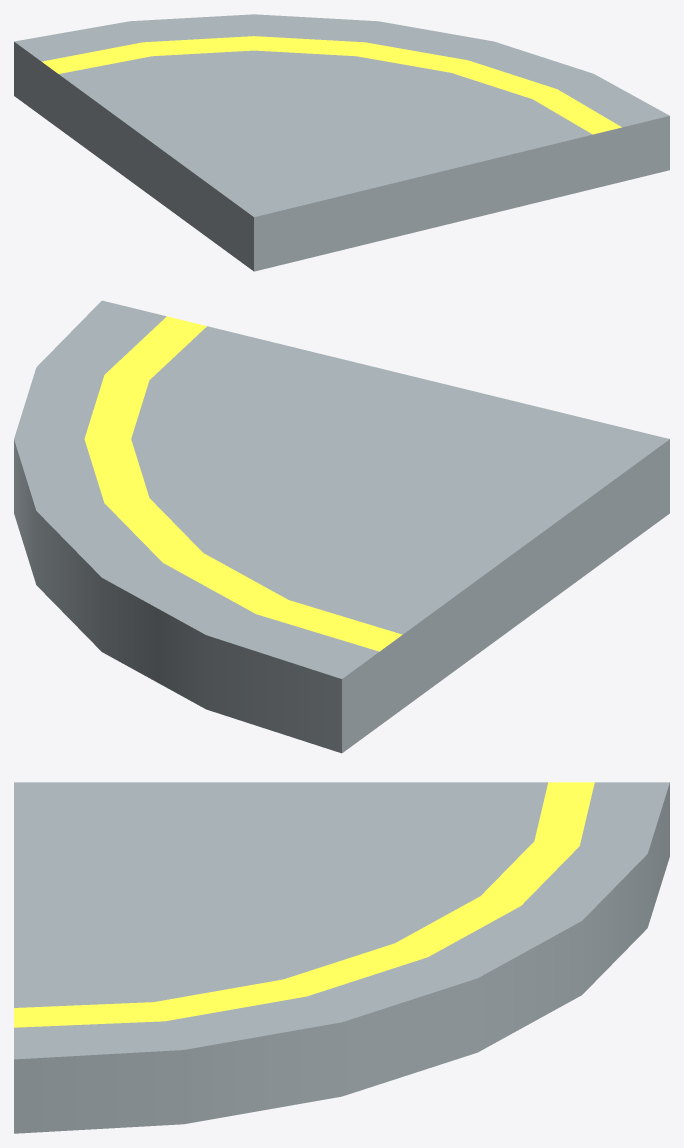
Rendered from SM_Platform90DegreeCorner_v0.fbx.
3 views of the same model, one above another, from view 1: azimuth 30°, elevation 25°; view 2: azimuth 150°, elevation 25°; view 3: azimuth 270°, elevation 25° (orthographic). The views are drawn at different scales.
Visible parts, largest first — view 1: SM_Platform90DegreeCorner_v0; view 2: SM_Platform90DegreeCorner_v0; view 3: SM_Platform90DegreeCorner_v0.
Part boxes in pixels (x1=…): SM_Platform90DegreeCorner_v0: x1=14, y1=14, x2=669, y2=271; SM_Platform90DegreeCorner_v0: x1=14, y1=300, x2=669, y2=753; SM_Platform90DegreeCorner_v0: x1=14, y1=782, x2=669, y2=1133.
Bounding box in the file's own units: 1 × 0.125 × 1.
